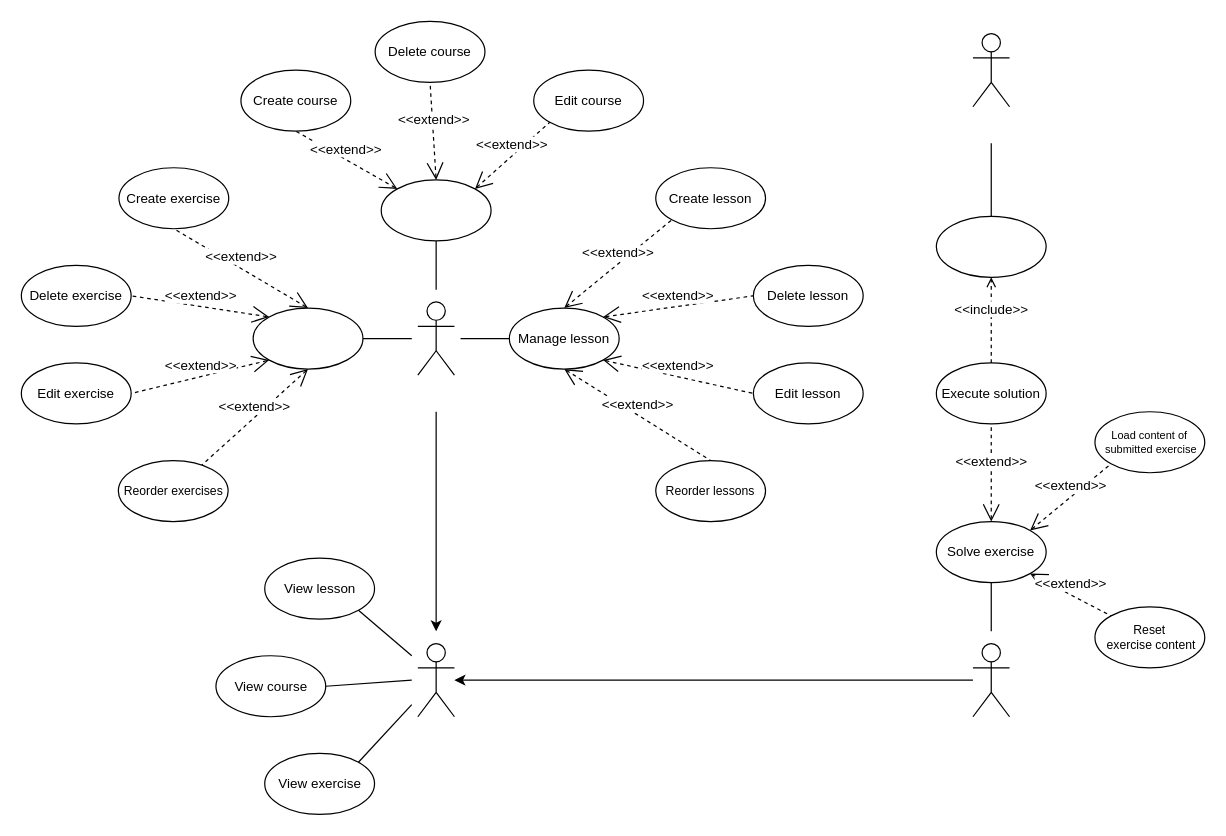
Image size: 1226x836. Some labels were removed from this diagram. The shapes that lost their labels are listed below. From the top down, each one's centre as x and y in pixels, then its label:
At point 991,69: "System".
At point 435,210: "Manage courses".
At point 990,246: "Estimate solution".
At point 307,338: "Manage exercise".
At point 435,338: "Teacher".
At point 435,679: "User".
At point 991,679: "Student".
